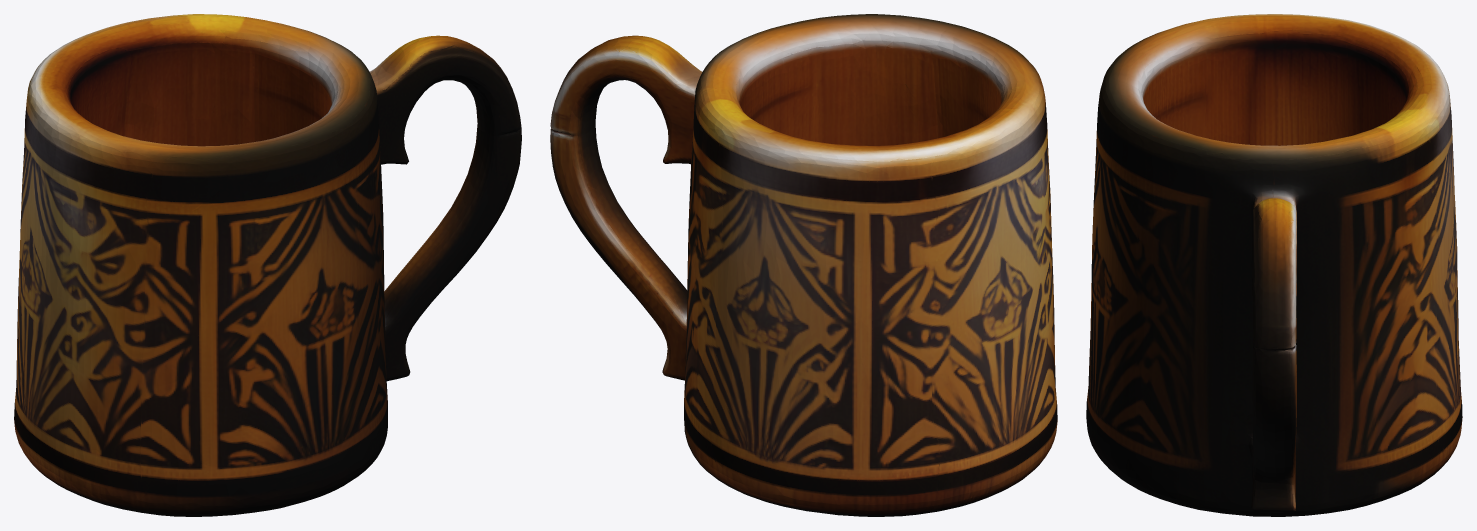
File: wooden-camping-mug-art-deco.jpeg.glb
3 renders of one model, left to right at view 1: azimuth 30°, elevation 25°; view 2: azimuth 150°, elevation 25°; view 3: azimuth 270°, elevation 25°, orthographic.
Parts seen in each view (by area): view 1: world; view 2: world; view 3: world.
Boxes of the visible parts, x1=… form: world: x1=14, y1=14, x2=521, y2=516; world: x1=550, y1=14, x2=1057, y2=516; world: x1=1086, y1=14, x2=1462, y2=516.
Bounding box in the file's own units: 0.999 × 0.7298 × 0.6819.
Materials: 1 (1 with a texture image).
